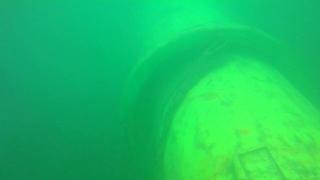pipe: (112, 1, 320, 180)
